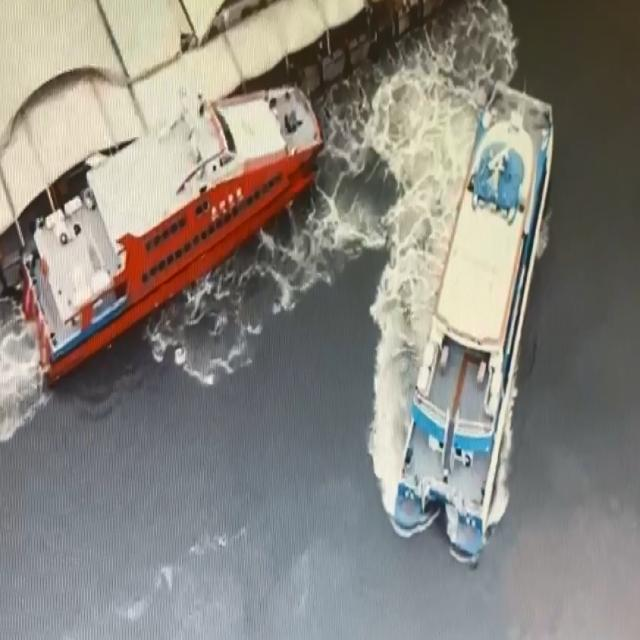passenger ship: (21, 81, 327, 388), (392, 81, 555, 568)
